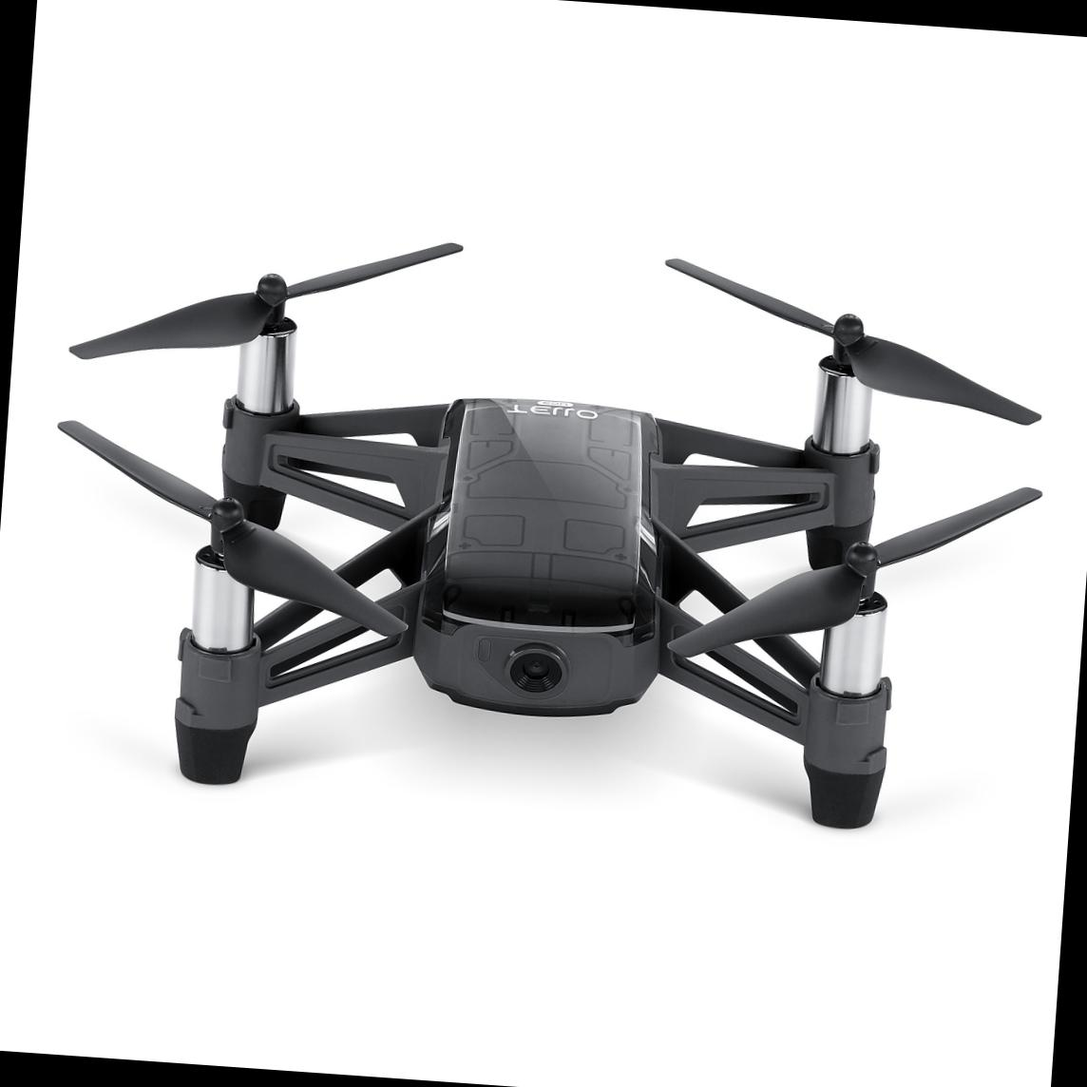drone: (14, 177, 1067, 843)
